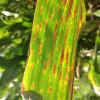Corn rust leaf: (20, 0, 83, 99)
